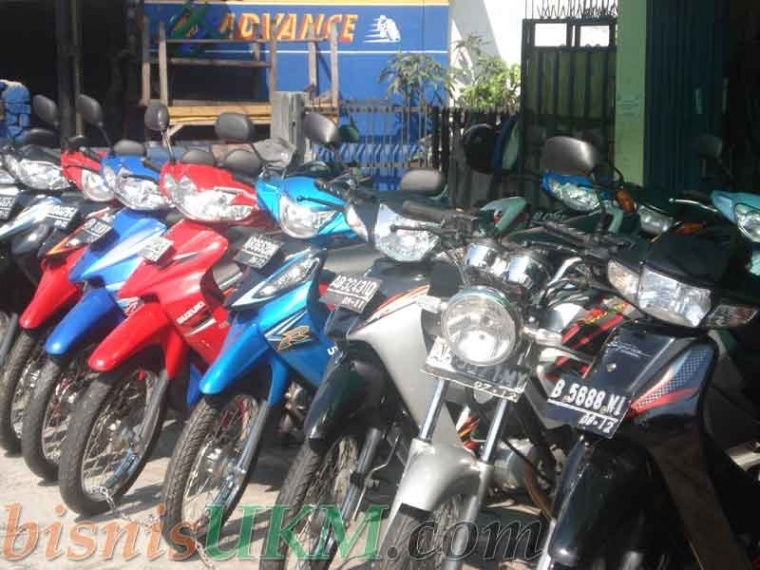plate: (425, 339, 527, 402), (543, 379, 627, 435), (323, 274, 380, 313)
